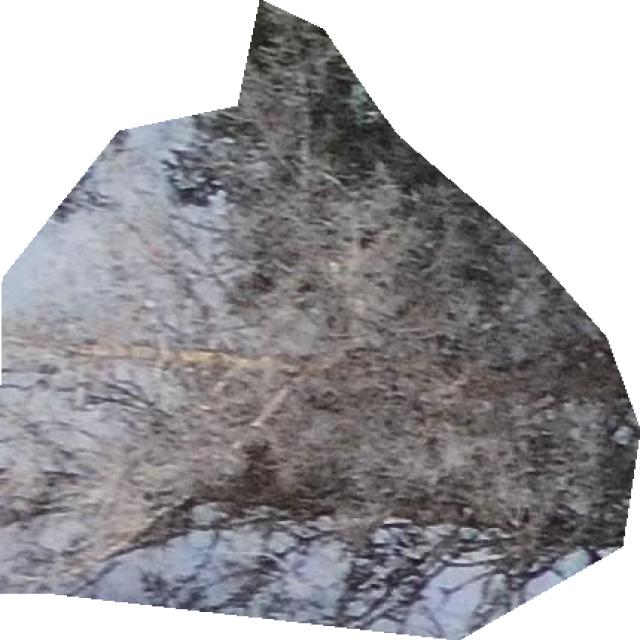trembling aspen: (0, 1, 639, 639)
